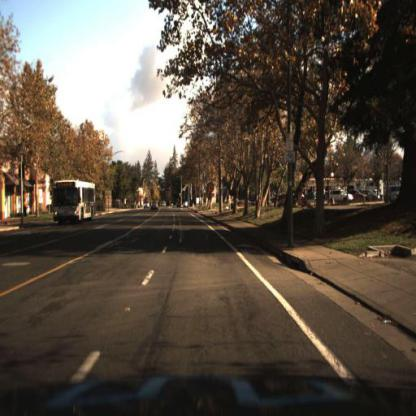car: (333, 190, 354, 203), (151, 200, 160, 214), (145, 202, 151, 210), (164, 203, 167, 208)
pedestrian: (24, 199, 29, 219)
truck: (52, 180, 96, 223)
